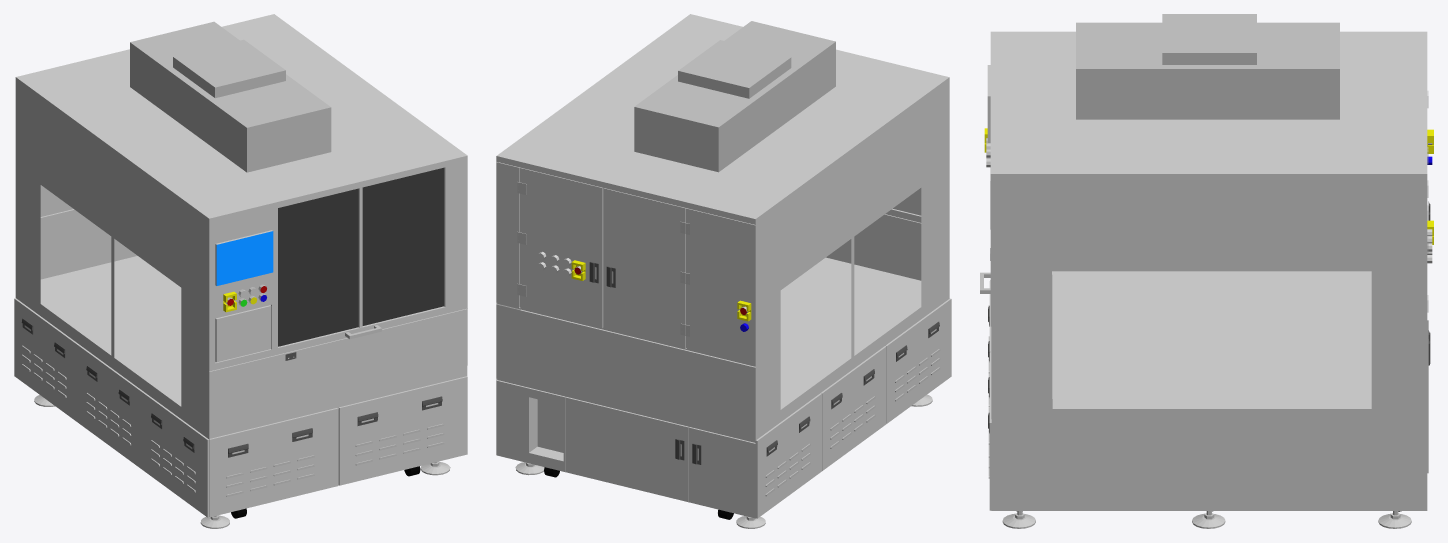
The picture shows the model from 3 angles, left to right: view 1: azimuth 30°, elevation 25°; view 2: azimuth 150°, elevation 25°; view 3: azimuth 270°, elevation 25°; orthographic projection. The views are drawn at different scales.
Parts seen in each view (by area): view 1: lb650v2; view 2: lb650v2; view 3: lb650v2.
Boxes of the visible parts, x1,y1,x2,y2 form: lb650v2: (14,14,467,528); lb650v2: (496,14,951,528); lb650v2: (980,14,1433,528).
Bounding box in the file's own units: 284 × 388 × 378.
